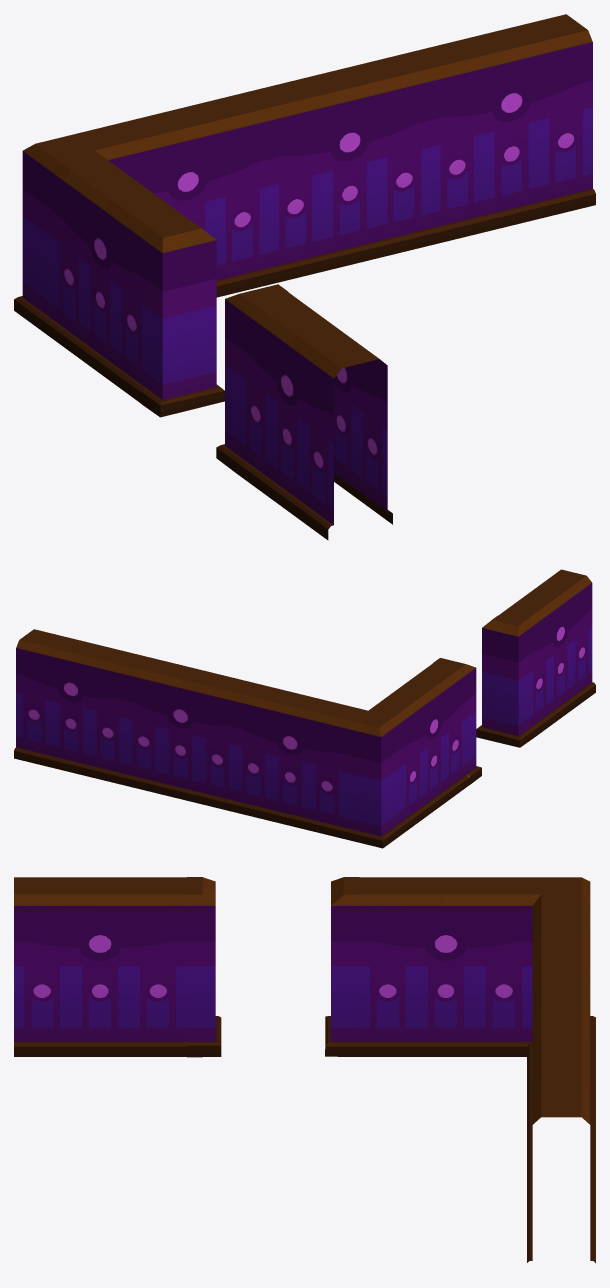
Rendered from s1_Bedroom2Walls_v2.fbx.
The picture shows the model from 3 angles, top to bottom: view 1: azimuth 30°, elevation 25°; view 2: azimuth 150°, elevation 25°; view 3: azimuth 270°, elevation 25°; orthographic projection. The views are drawn at different scales.
Parts seen in each view (by area): view 1: s1_Bedroom2Walls_v2; view 2: s1_Bedroom2Walls_v2; view 3: s1_Bedroom2Walls_v2.
Boxes of the visible parts, x1,y1,x2,y2 form: s1_Bedroom2Walls_v2: (14, 14, 595, 540); s1_Bedroom2Walls_v2: (14, 569, 595, 848); s1_Bedroom2Walls_v2: (14, 877, 595, 1262).
Size of the model in its own units: 1010 by 300 by 1010.
